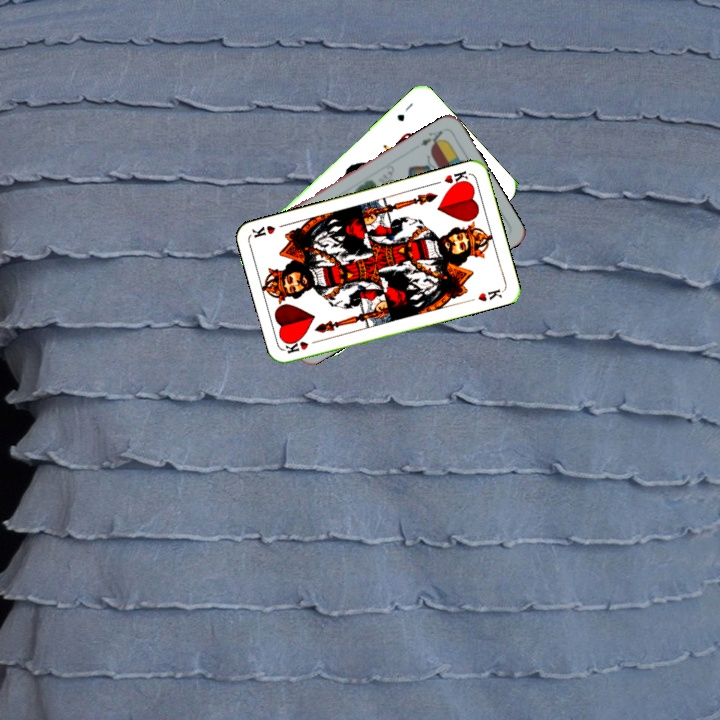EA: (416, 126, 446, 150)
GU: (393, 99, 415, 124)
HK: (432, 167, 472, 190), (281, 336, 322, 356)
